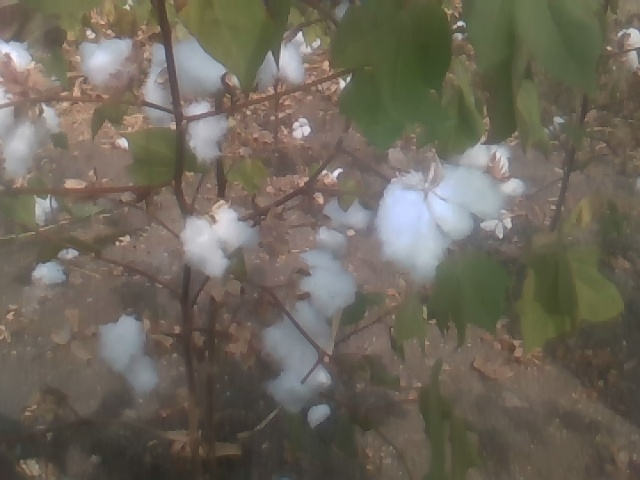cotton: (383, 170, 501, 282), (152, 43, 230, 158), (260, 308, 334, 411), (1, 42, 56, 166), (184, 209, 257, 275), (97, 317, 157, 395), (458, 145, 523, 200), (299, 251, 356, 313), (317, 193, 373, 248), (256, 35, 302, 85), (78, 39, 127, 85)
